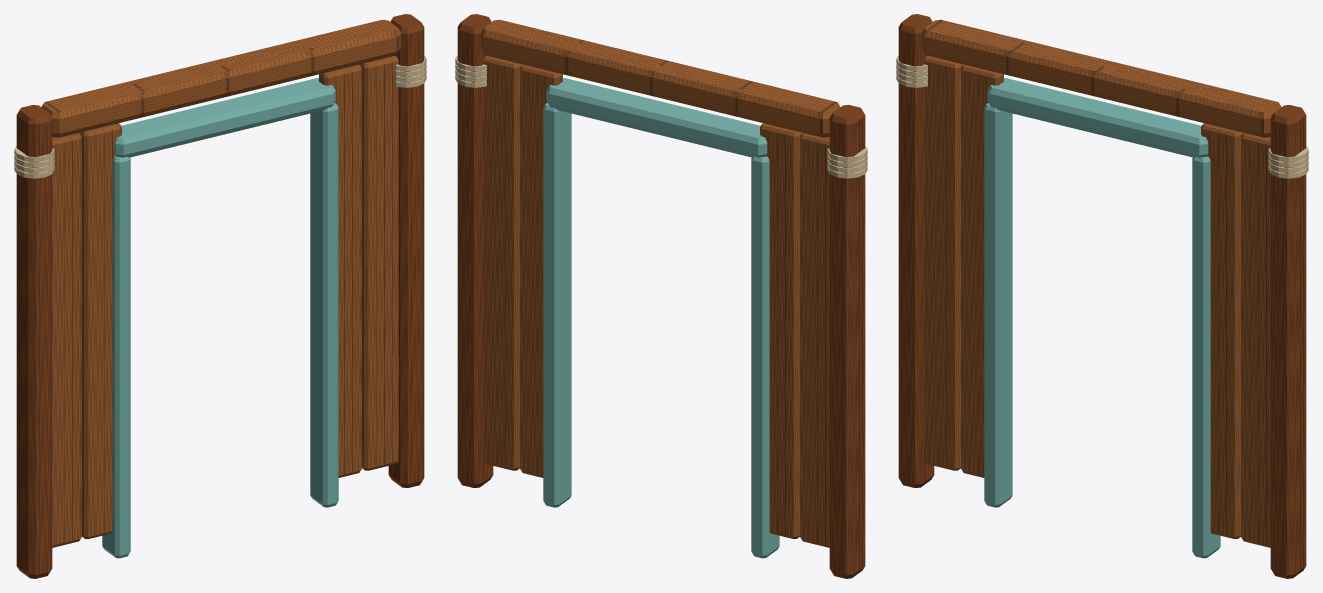
Rendered from ocean-raft-settlement-ocean-raft-settlement-cabin-door-daa14ee1__28904.glb.
3 renders of one model, left to right at view 1: azimuth 30°, elevation 25°; view 2: azimuth 150°, elevation 25°; view 3: azimuth 330°, elevation 25°, orthographic.
Parts seen in each view (by area): view 1: pale, wood, teal, rope; view 2: pale, wood, teal, rope; view 3: pale, wood, teal, rope.
Part boxes in pixels (x1=…): pale: x1=41, y1=19, x2=400, y2=547; wood: x1=16, y1=14, x2=424, y2=578; teal: x1=102, y1=78, x2=338, y2=558; rope: x1=14, y1=55, x2=426, y2=178; pale: x1=481, y1=19, x2=840, y2=547; wood: x1=457, y1=14, x2=865, y2=578; teal: x1=543, y1=78, x2=779, y2=558; rope: x1=455, y1=55, x2=867, y2=178; pale: x1=922, y1=19, x2=1281, y2=547; wood: x1=898, y1=14, x2=1306, y2=578; teal: x1=984, y1=78, x2=1220, y2=558; rope: x1=896, y1=55, x2=1308, y2=178.
Bounding box in the file's own units: 2.03 × 2.2 × 0.1741.
Materials: 4 (2 with a texture image).
